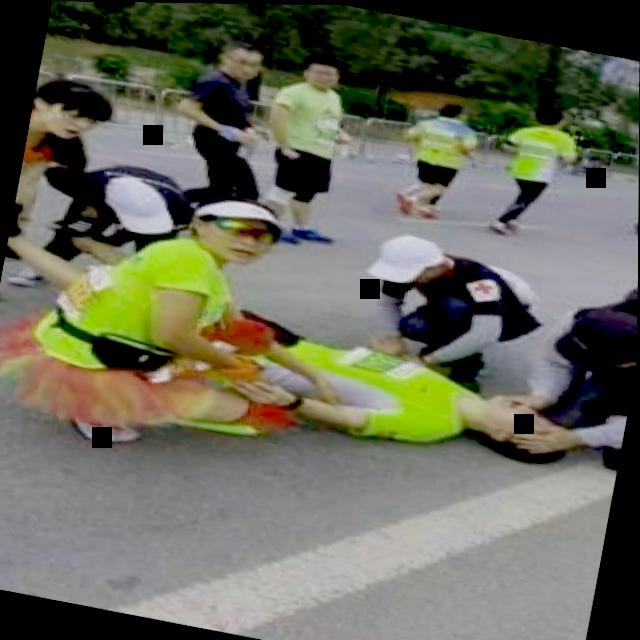Fall-Detected: (190, 298, 592, 479)
